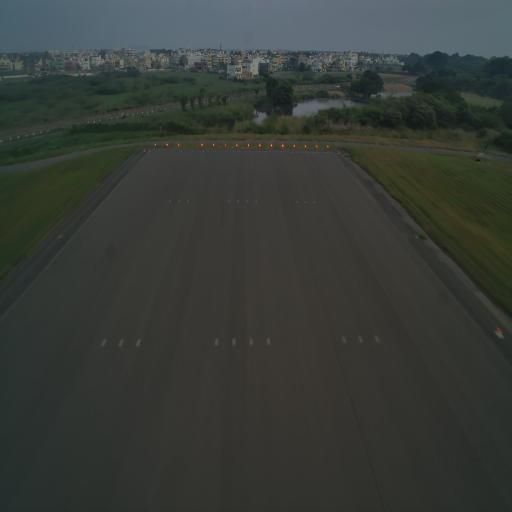off: (98, 332, 108, 354), (116, 333, 124, 353), (230, 333, 238, 350), (248, 334, 256, 351), (133, 335, 142, 350), (213, 335, 220, 352), (341, 332, 348, 348), (356, 333, 364, 347), (372, 331, 380, 345), (265, 334, 271, 352), (168, 197, 172, 205), (186, 197, 190, 205), (227, 198, 231, 206), (294, 199, 299, 205), (236, 198, 240, 205), (177, 198, 181, 204), (190, 143, 194, 149), (246, 198, 249, 204), (254, 199, 257, 205), (304, 199, 307, 205), (312, 199, 315, 205), (202, 149, 206, 153), (224, 149, 227, 154), (180, 149, 183, 153), (238, 149, 241, 153), (258, 150, 261, 154), (302, 150, 305, 154), (269, 151, 272, 154), (213, 149, 215, 153), (233, 149, 235, 153), (244, 149, 246, 153), (251, 150, 253, 154), (280, 150, 282, 154), (292, 150, 294, 154), (191, 150, 193, 152)
on: (492, 320, 504, 344), (258, 141, 262, 149), (246, 141, 250, 148), (292, 143, 296, 150), (142, 148, 146, 154), (234, 142, 238, 148), (281, 143, 285, 149), (315, 144, 319, 150), (304, 142, 307, 149), (177, 142, 180, 148), (212, 142, 215, 148), (224, 142, 227, 148), (326, 144, 329, 150), (165, 143, 168, 148), (270, 143, 273, 148), (154, 142, 156, 148), (201, 142, 203, 148), (338, 150, 340, 155)
